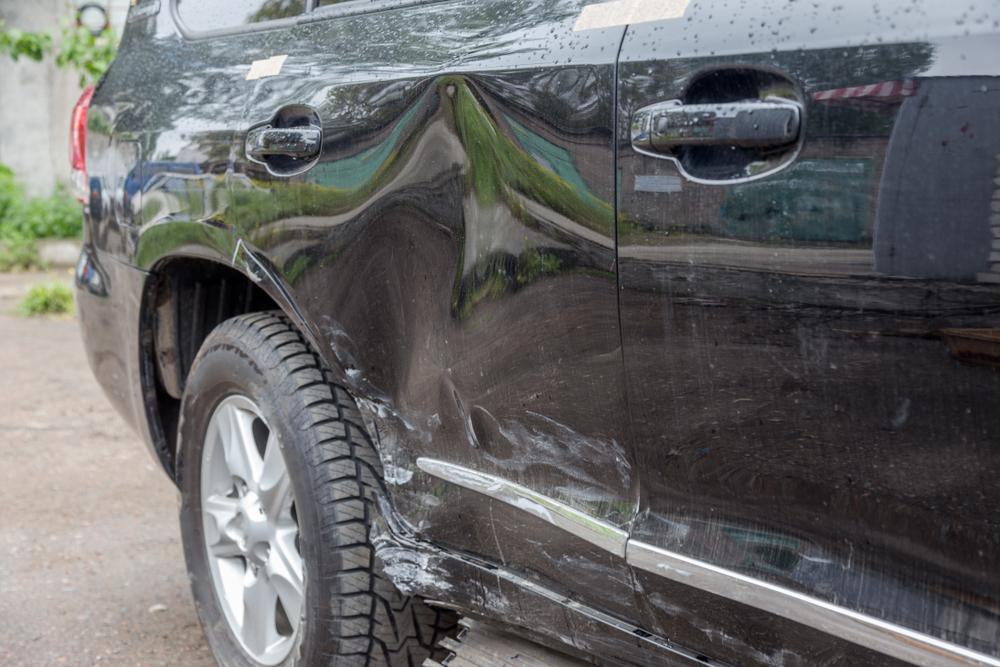dent: (321, 75, 521, 465)
scratch: (456, 401, 643, 526)
